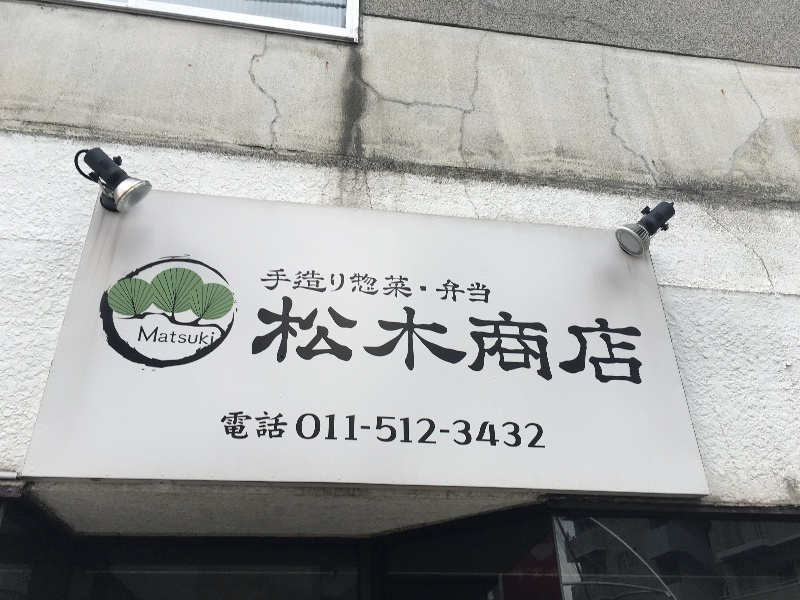text: (257, 293, 272, 389), (273, 293, 288, 389), (289, 293, 304, 389), (305, 293, 320, 389), (321, 293, 336, 389), (337, 293, 352, 389), (353, 293, 368, 389), (369, 293, 384, 389), (385, 293, 400, 389), (401, 293, 416, 389), (417, 293, 432, 389), (433, 293, 448, 389), (449, 293, 464, 389), (465, 293, 480, 389), (481, 293, 496, 389), (497, 293, 512, 389), (513, 293, 528, 389), (529, 293, 544, 389), (545, 293, 560, 389), (561, 293, 576, 389), (577, 293, 592, 389), (593, 293, 608, 389), (609, 293, 624, 389), (625, 293, 640, 389), (225, 407, 240, 451), (241, 407, 256, 451), (257, 407, 272, 451), (273, 407, 288, 451), (289, 407, 304, 451), (305, 407, 320, 451), (321, 407, 336, 451), (337, 407, 352, 451), (353, 407, 368, 451), (369, 407, 384, 451), (385, 407, 400, 451), (401, 407, 416, 451), (417, 407, 432, 451), (433, 407, 448, 451), (449, 407, 464, 451), (465, 407, 480, 451), (481, 407, 496, 451), (497, 407, 512, 451), (513, 407, 528, 451), (529, 407, 544, 451), (273, 265, 288, 307), (289, 265, 304, 307), (305, 265, 320, 307), (321, 265, 336, 307), (337, 265, 352, 307), (353, 265, 368, 307), (369, 265, 384, 307), (385, 265, 400, 307), (401, 265, 416, 307), (417, 265, 432, 307), (433, 265, 448, 307), (449, 265, 464, 307), (465, 265, 480, 307), (260, 265, 272, 307), (481, 265, 492, 307), (145, 325, 160, 349), (161, 325, 176, 349), (177, 325, 192, 349), (193, 325, 208, 349), (641, 293, 644, 389), (209, 325, 216, 349), (221, 407, 224, 451), (545, 407, 548, 451), (139, 325, 144, 349)
